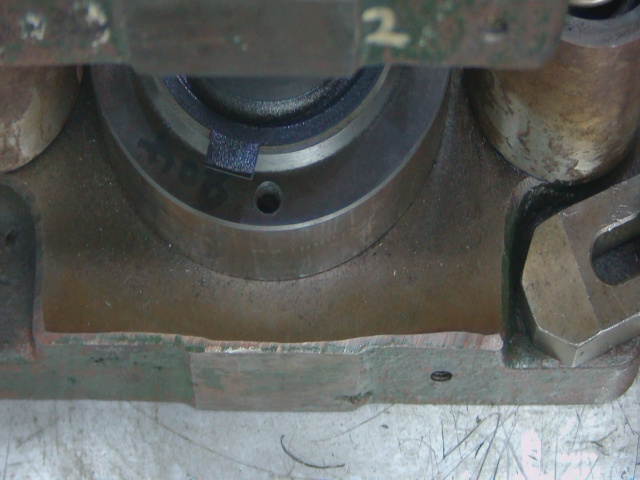HX1: (204, 135, 268, 188)
